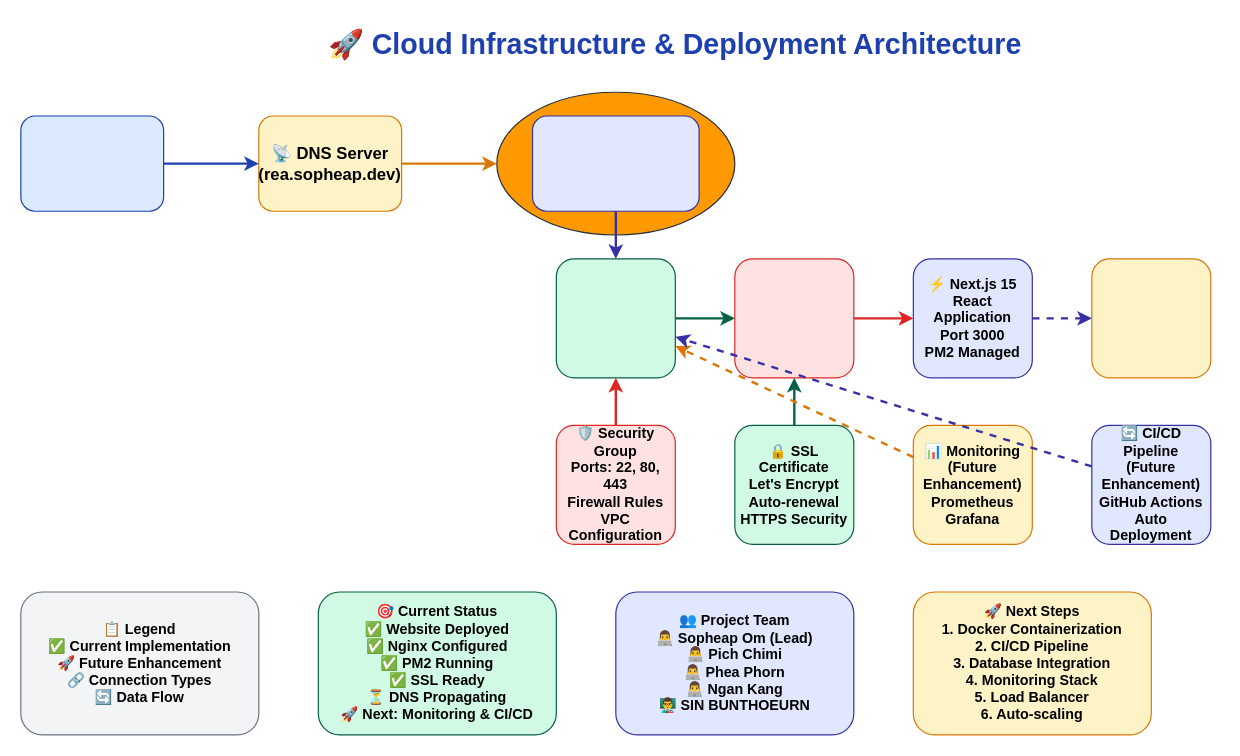
Some shapes in this 1240 by 756 pixel diagram are drawn without their labels. The box of each missing label's shape, as (x1, y1, x2, y2) in pixels:
⚖️ Load Balancer (Future Enhancement): (531, 115, 699, 211)
🌍 Internet Users (End Users): (20, 115, 164, 211)
🌐 Nginx Web Server Port 80/443 Reverse Proxy: (734, 258, 854, 378)
🖥️ EC2 Instance Ubuntu 24.04 LTS t2.micro IP: 18.136.209.47: (555, 258, 675, 378)
🗄️ Database (Future Enhancement) PostgreSQL/MySQL RDS: (1091, 258, 1211, 378)
